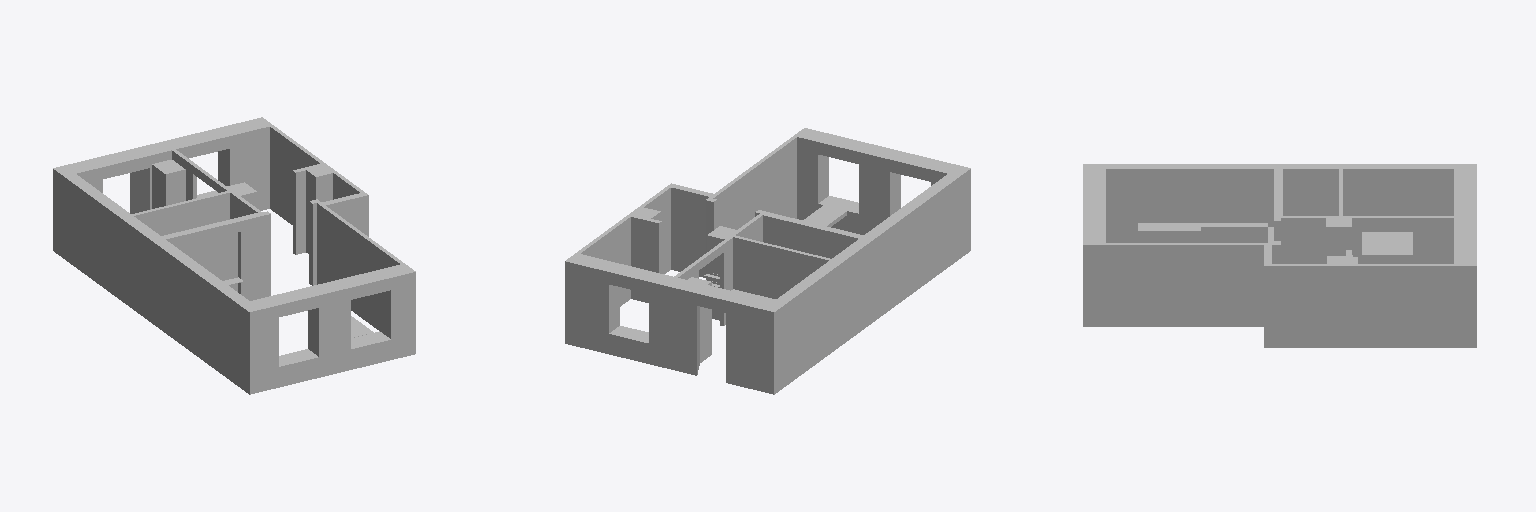
The model's file is pommernsgade3_worldcenter.obj.
The picture shows the model from 3 angles: view 1: azimuth 30°, elevation 25°; view 2: azimuth 150°, elevation 25°; view 3: azimuth 270°, elevation 25°; orthographic projection.
Parts seen in each view (by area): view 1: Object, Object.027, Object.045, Object.031, Object.049, Object.040; view 2: Object, Object.027, Object.045, Object.049, Object.031, Object.051, Object.021; view 3: Object, Object.027, Object.038, Object.003, Object.015, Object.014.
Part boxes in pixels (x1,y1,x2,y2): Object: (53, 117, 415, 394); Object.027: (132, 149, 270, 300); Object.045: (293, 164, 332, 254); Object.031: (152, 160, 185, 208); Object.049: (130, 168, 149, 213); Object.040: (309, 199, 319, 285); Object: (565, 128, 970, 394); Object.027: (674, 210, 863, 325); Object.045: (631, 207, 661, 302); Object.049: (688, 304, 699, 374); Object.031: (688, 277, 711, 362); Object.051: (726, 313, 734, 384); Object.021: (803, 205, 846, 226); Object: (1083, 164, 1476, 347); Object.027: (1274, 169, 1453, 263); Object.038: (1362, 232, 1412, 263); Object.003: (1201, 223, 1267, 242); Object.015: (1138, 223, 1169, 242); Object.014: (1170, 223, 1200, 242).
Bounding box in the file's own units: 5.33 × 2 × 8.66.